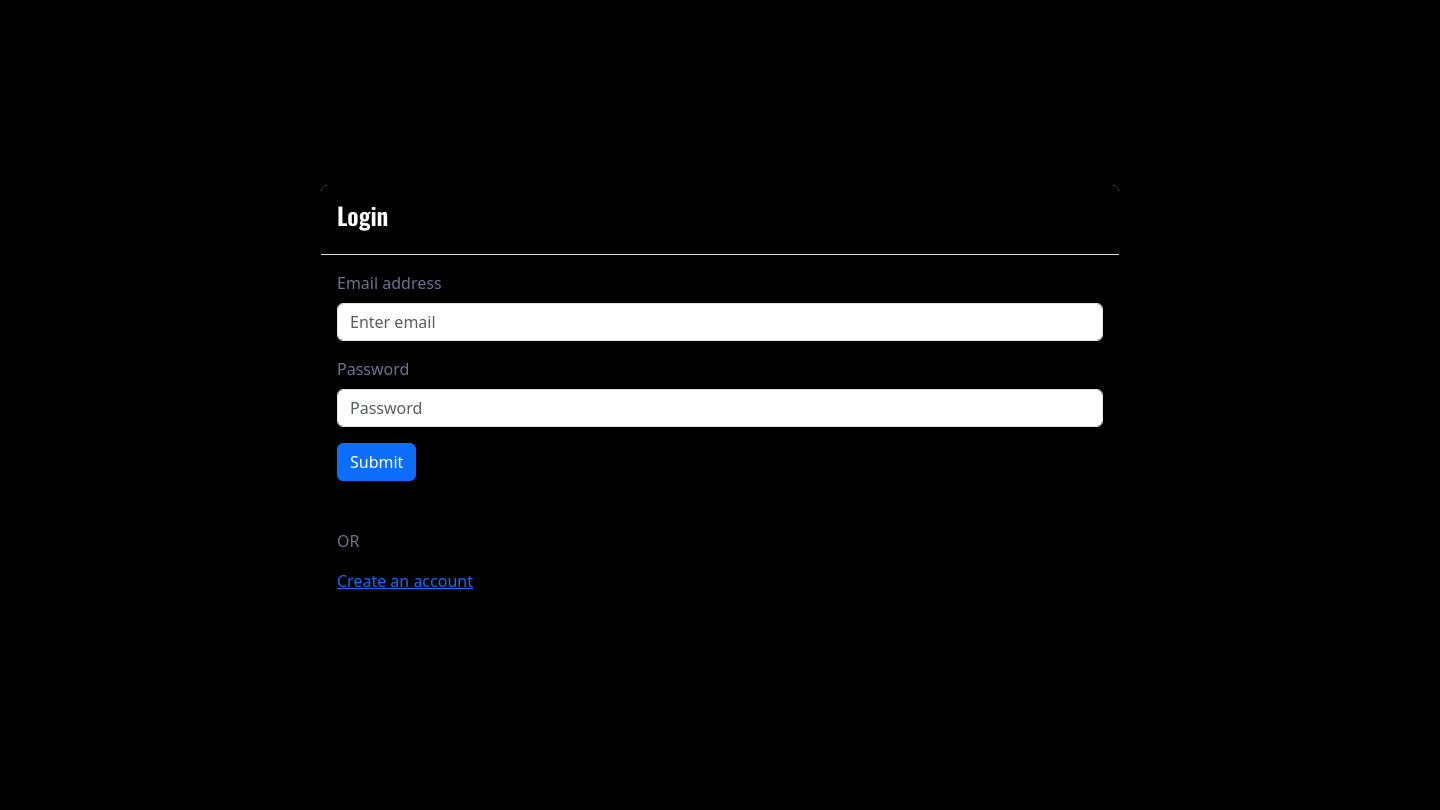
Test: SignIn component › shows validation error message when email is empty
In the password field labelled "Password": {"x": 720, "y": 408} [337,389,1103,427], type "123"
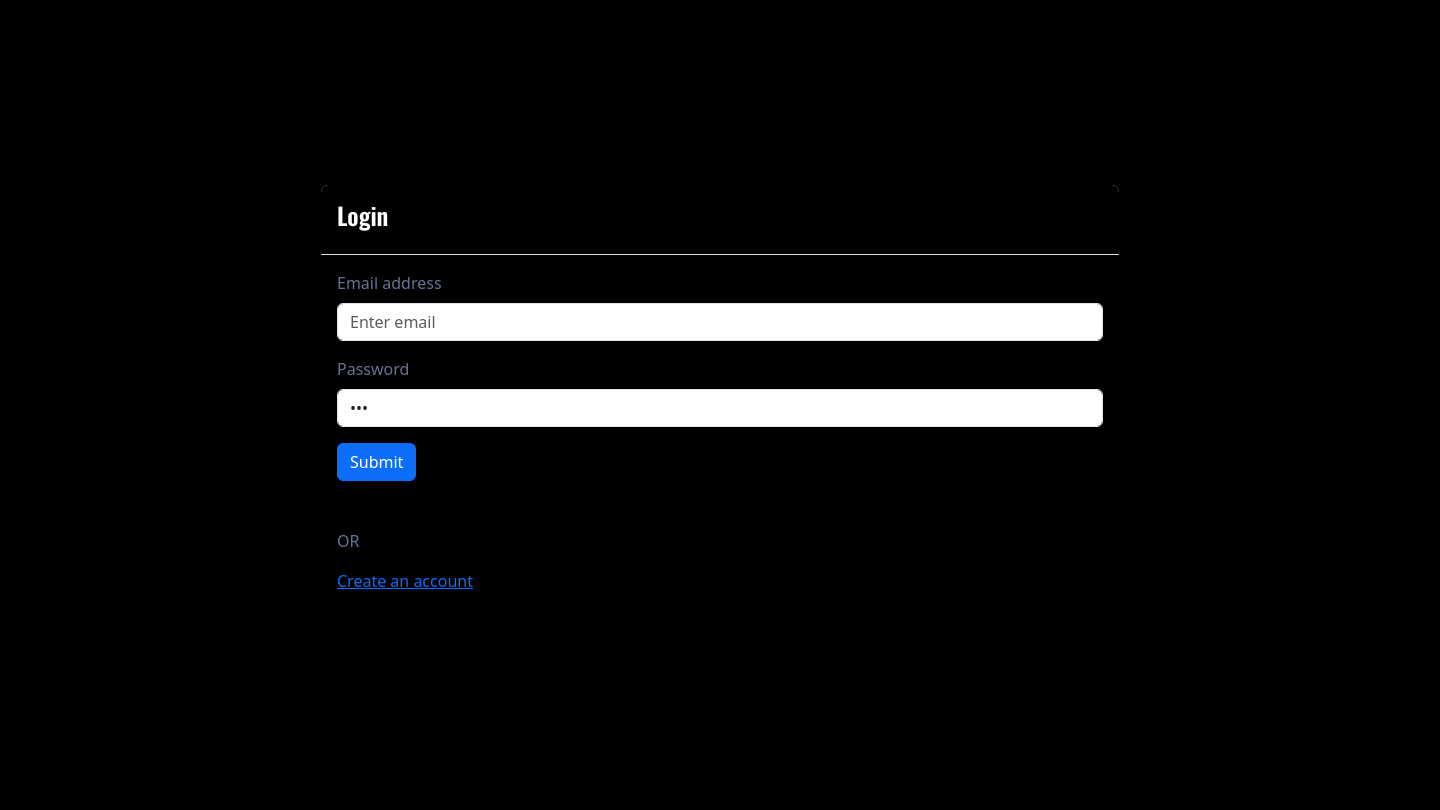
Click the button "Submit": {"x": 377, "y": 462} [337,443,416,481]
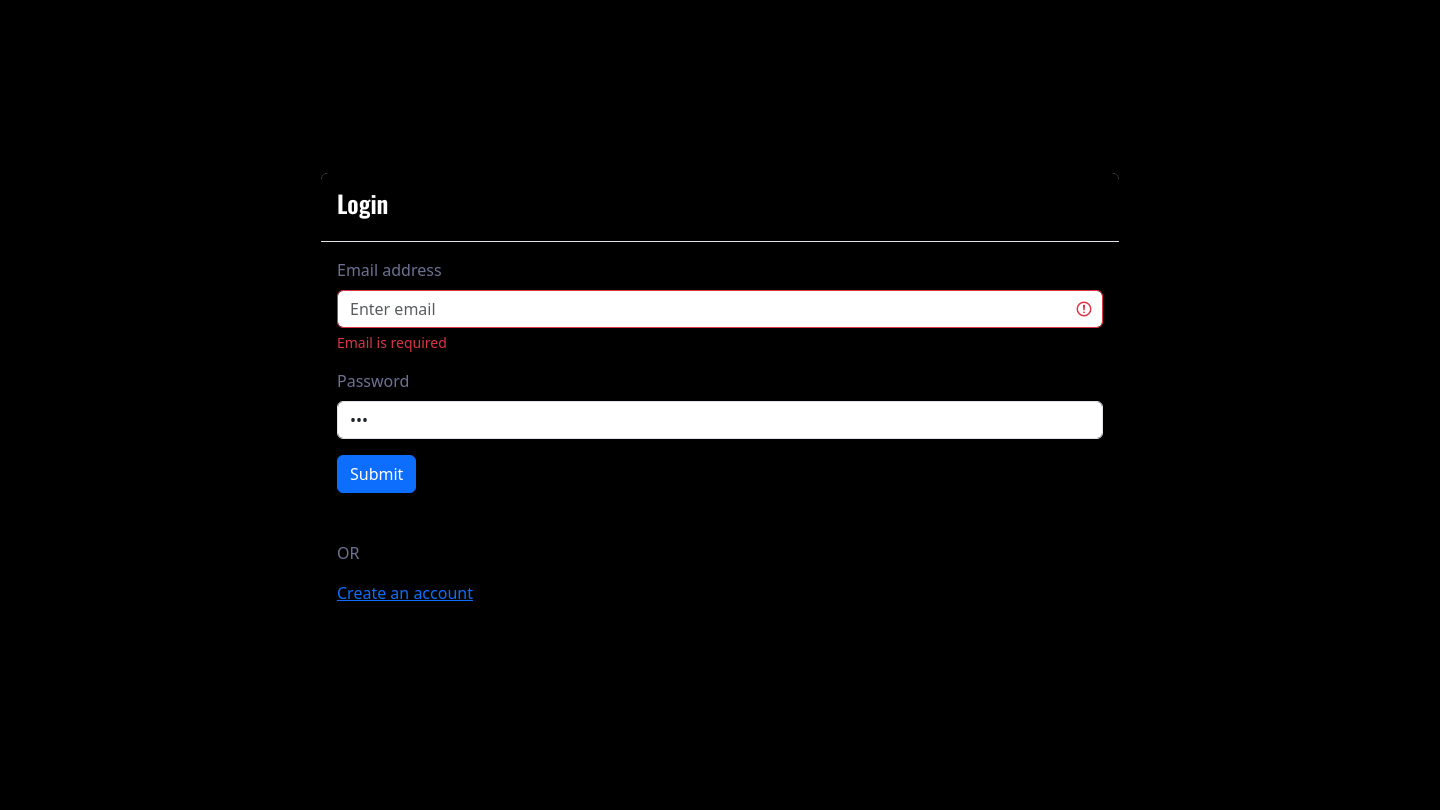
Expected: the text "Email is required" is shown, [337,333,447,352]
